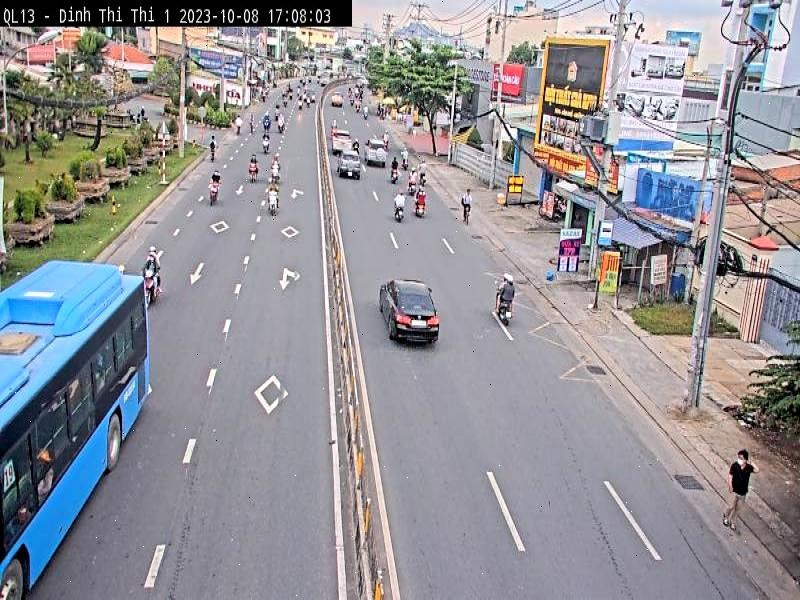bus: (0, 255, 150, 594)
car: (382, 280, 440, 343), (334, 155, 364, 178), (365, 154, 387, 168)
